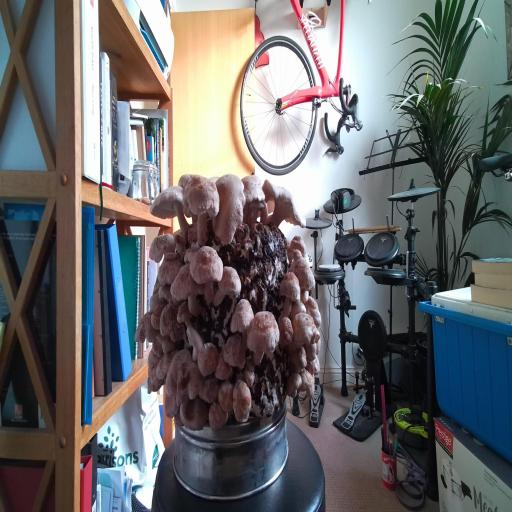Shiitake Mushroom: (166, 159, 234, 249), (151, 339, 219, 424), (173, 233, 241, 307), (157, 255, 222, 326), (247, 177, 321, 239), (234, 299, 291, 372), (147, 175, 195, 236), (211, 170, 248, 248), (147, 242, 190, 293), (170, 318, 213, 365), (225, 293, 258, 350), (237, 167, 270, 224), (139, 226, 184, 266), (208, 261, 244, 307), (191, 335, 224, 384), (127, 308, 162, 354), (288, 251, 321, 299), (157, 298, 189, 346), (151, 339, 182, 383), (202, 397, 233, 438), (299, 292, 330, 331), (279, 271, 301, 320), (164, 225, 195, 259), (208, 352, 237, 388), (252, 192, 280, 229), (291, 310, 320, 345), (179, 397, 209, 430), (280, 366, 307, 402), (139, 368, 167, 402), (222, 331, 247, 369), (171, 298, 197, 332), (286, 342, 311, 377), (274, 313, 297, 349), (197, 372, 220, 406), (233, 380, 251, 423), (297, 367, 317, 400), (247, 195, 268, 226), (284, 296, 311, 320), (173, 164, 196, 192), (149, 357, 168, 389), (161, 393, 181, 423), (179, 239, 201, 266), (142, 346, 164, 373), (217, 380, 234, 413), (304, 354, 323, 381), (147, 289, 171, 310), (149, 303, 164, 332), (289, 234, 307, 257), (150, 336, 165, 362), (156, 336, 175, 353), (158, 283, 172, 302), (304, 343, 317, 361), (301, 289, 309, 304)
